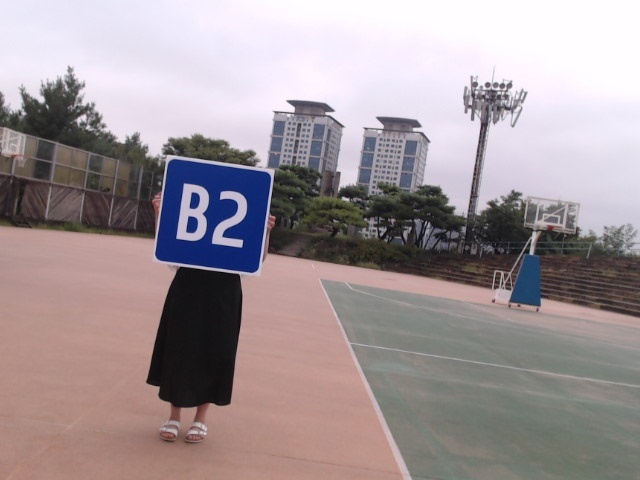delivery_b2: (153, 157, 272, 275)
